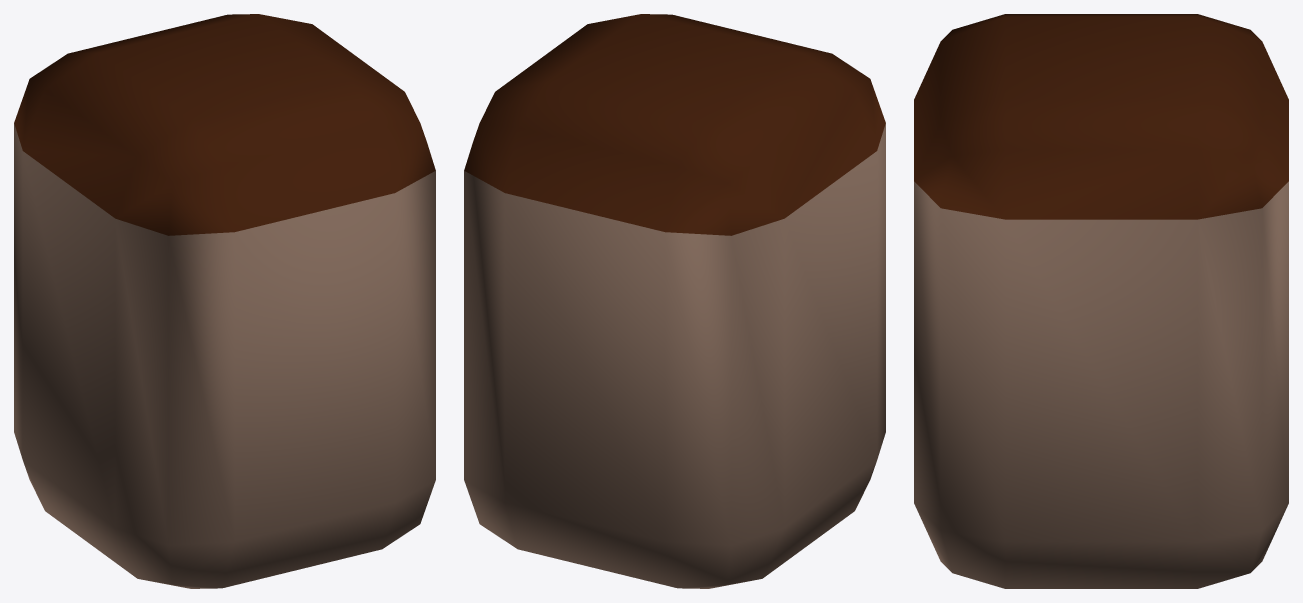
3 renders of one model, left to right at view 1: azimuth 30°, elevation 25°; view 2: azimuth 150°, elevation 25°; view 3: azimuth 270°, elevation 25°, orthographic. The views are drawn at different scales.
Parts seen in each view (by area): view 1: Box.001; view 2: Box.001; view 3: Box.001.
Boxes of the visible parts, x1,y1,x2,y2 form: Box.001: [14, 14, 435, 588]; Box.001: [464, 14, 885, 588]; Box.001: [914, 14, 1288, 588].
Size of the model in its own units: 14.51 by 20.82 by 14.51.
